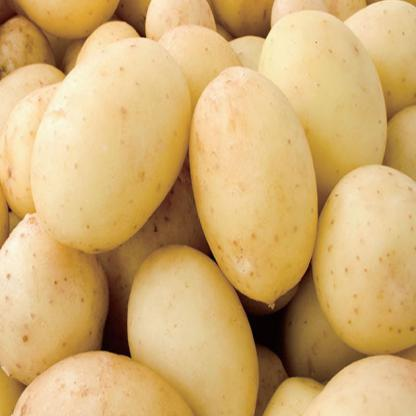potato: (18, 23, 206, 254), (188, 53, 317, 302), (115, 241, 264, 415), (309, 150, 416, 362), (0, 192, 118, 381), (17, 340, 234, 416), (302, 336, 416, 415)
